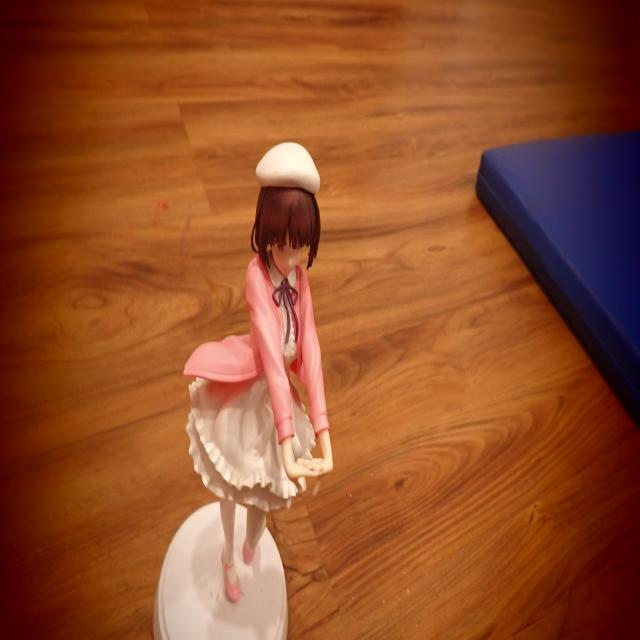My-pink-anime-figure: (185, 143, 332, 601)
